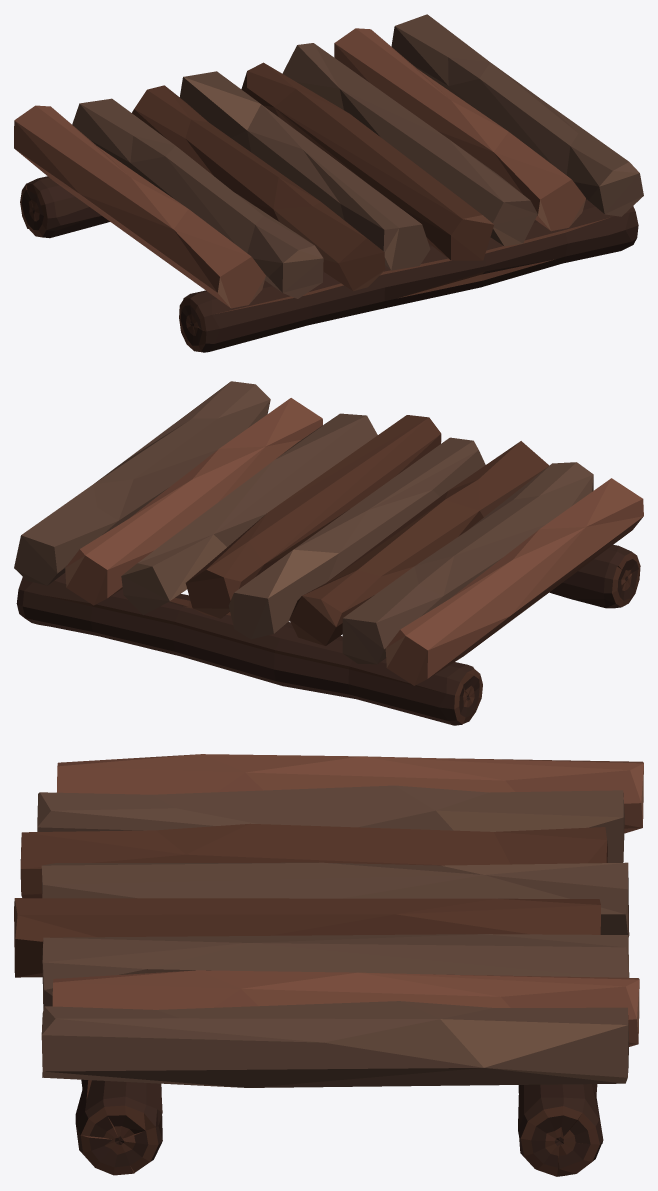
File: Log_Path_01.glb
3 renders of one model, top to bottom at view 1: azimuth 30°, elevation 25°; view 2: azimuth 150°, elevation 25°; view 3: azimuth 270°, elevation 25°, orthographic. The views are drawn at different scales.
Visible parts, largest first — view 1: Log_Path_01; view 2: Log_Path_01; view 3: Log_Path_01.
Part boxes in pixels (x1=…): Log_Path_01: x1=14, y1=14, x2=643, y2=352; Log_Path_01: x1=14, y1=381, x2=643, y2=725; Log_Path_01: x1=14, y1=754, x2=643, y2=1176.
Size of what is drawn, in the model's own units: 1.92 by 0.4705 by 1.71.
Materials: 1 (1 with a texture image).
